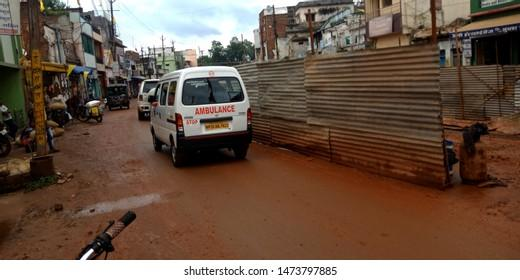ER: (149, 65, 253, 168)
